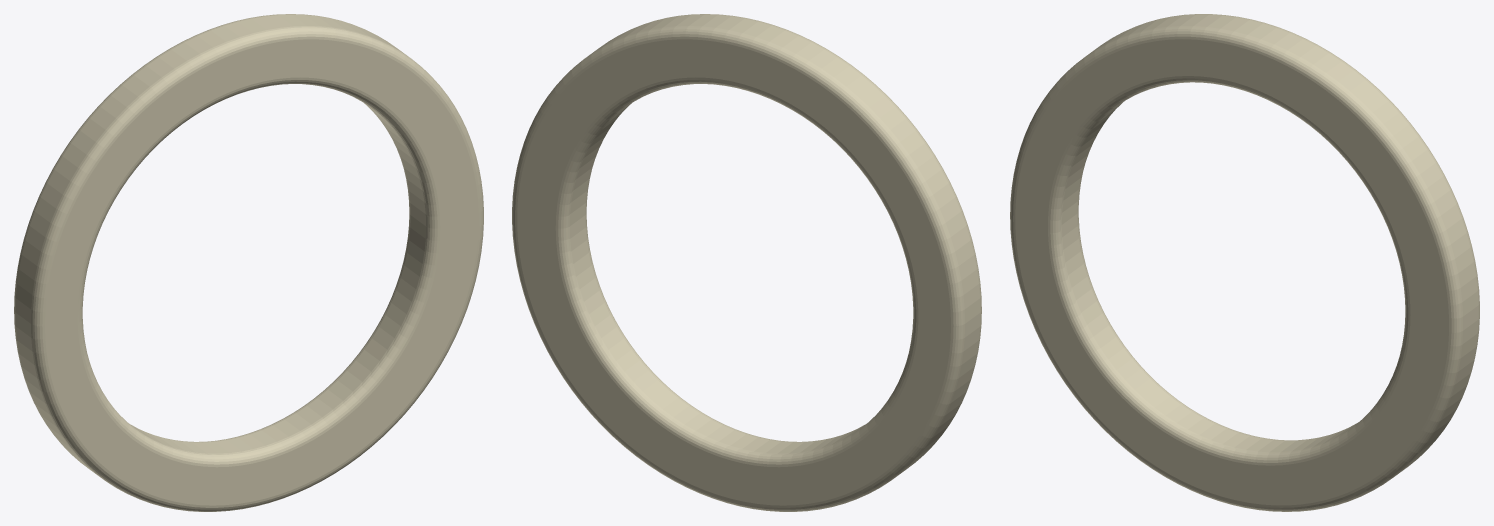
The model's file is ring.glb.
3 renders of one model, left to right at view 1: azimuth 30°, elevation 25°; view 2: azimuth 150°, elevation 25°; view 3: azimuth 330°, elevation 25°, orthographic.
Bounding box in the file's own units: 25.34 × 25.34 × 2.5.
